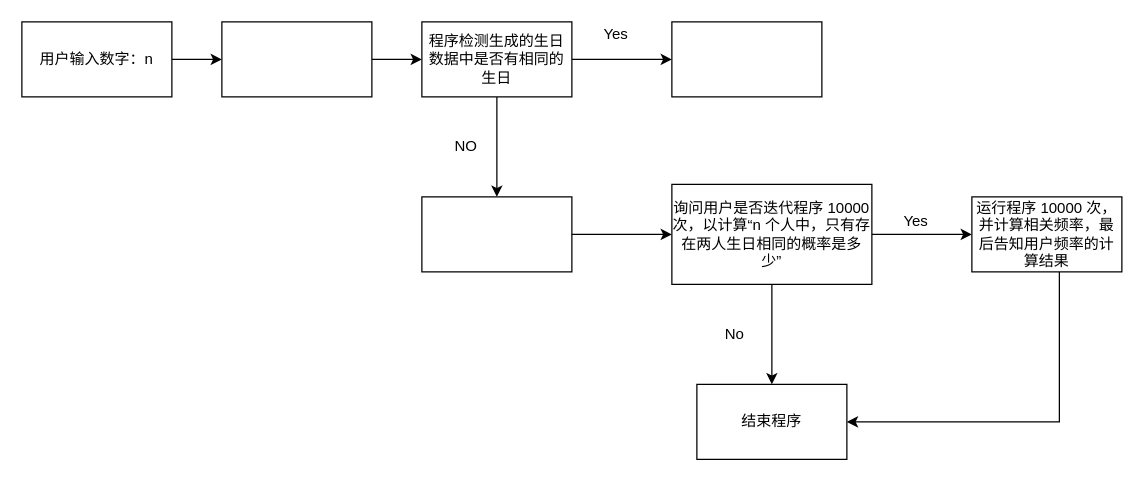
Some shapes in this 1144 by 481 pixel diagram are drawn without their labels. The shapes that lost their labels are listed below. From the top down, each one's centre as x and y in pixels, then its label:
[296,59]: 程序随机生成 n 个生日（月-日）
[746,59]: 告知用户相同的生日是哪个日期
[496,234]: 告知用户，此次生成的生日数据中没有相同的生日
